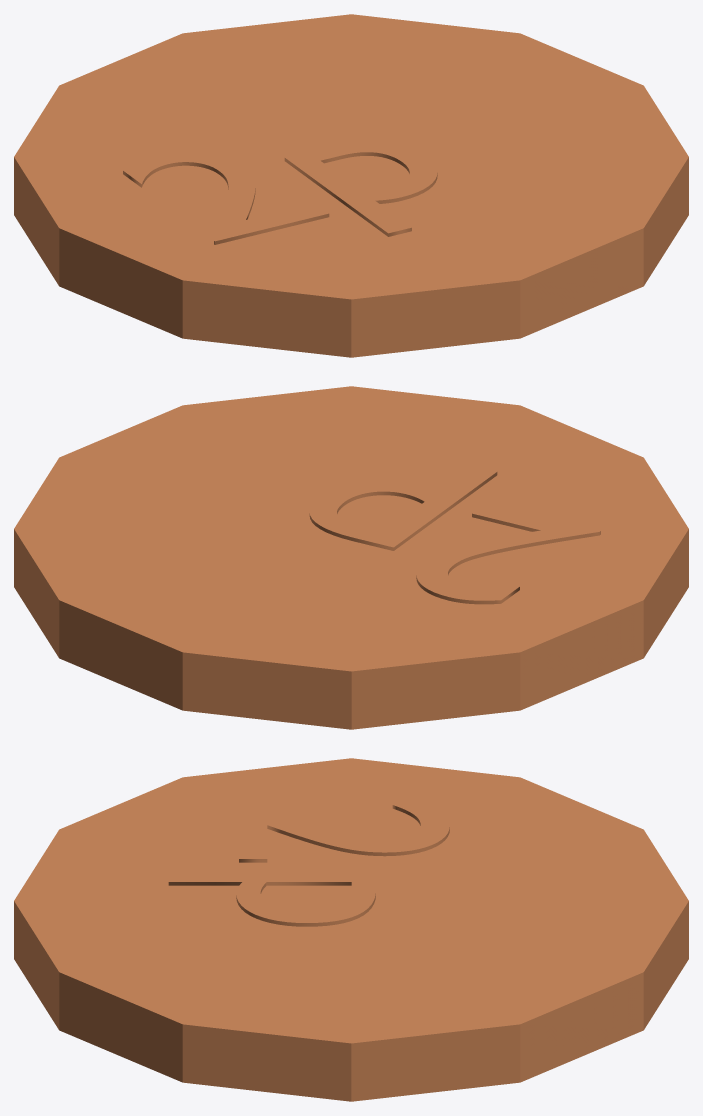
The model's file is coin.glb.
3 views of the same model, one above another, from view 1: azimuth 30°, elevation 25°; view 2: azimuth 150°, elevation 25°; view 3: azimuth 270°, elevation 25° (orthographic).
Parts seen in each view (by area): view 1: Copper coin; view 2: Copper coin; view 3: Copper coin.
Part boxes in pixels (x1=…): Copper coin: x1=14, y1=14, x2=688, y2=357; Copper coin: x1=14, y1=386, x2=688, y2=729; Copper coin: x1=14, y1=758, x2=688, y2=1101.
Bounding box in the file's own units: 0.42 × 0.0425 × 0.42.
